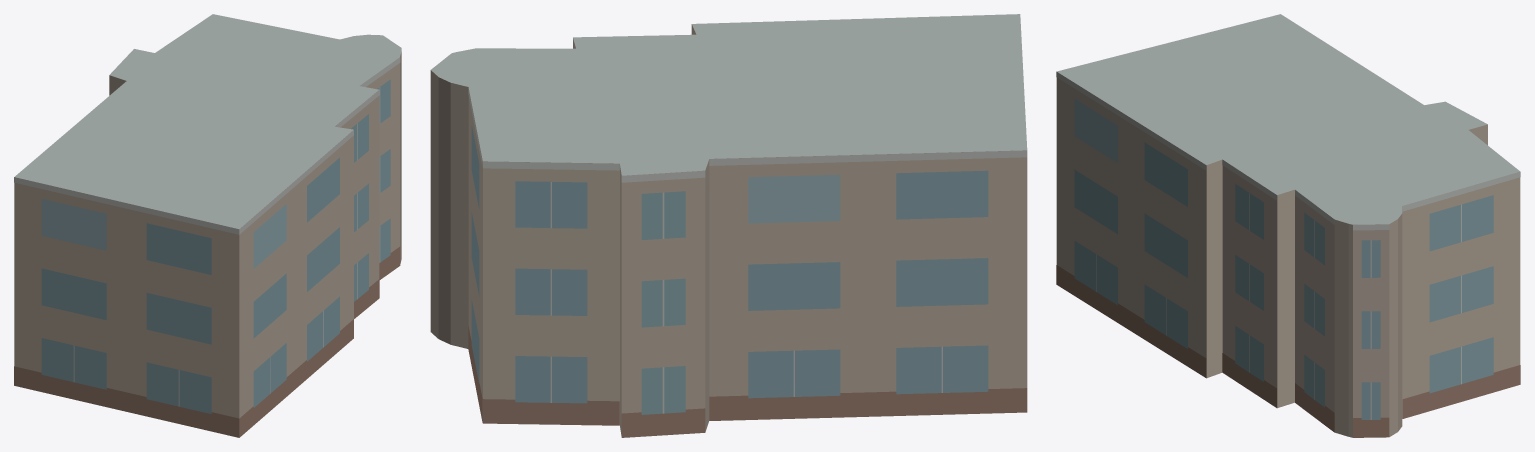
File: survey-upis-32920818.glb
The picture shows the model from 3 angles, left to right: view 1: azimuth 30°, elevation 25°; view 2: azimuth 150°, elevation 25°; view 3: azimuth 270°, elevation 25°; orthographic projection. The views are drawn at different scales.
Parts seen in each view (by area): view 1: survey-upis-32920818.tmp; view 2: survey-upis-32920818.tmp; view 3: survey-upis-32920818.tmp.
Part boxes in pixels (bbox=[...]): survey-upis-32920818.tmp: bbox=[14, 14, 401, 437]; survey-upis-32920818.tmp: bbox=[430, 14, 1027, 437]; survey-upis-32920818.tmp: bbox=[1056, 14, 1520, 437].
Bounding box in the file's own units: 19.42 × 9.15 × 18.07.
